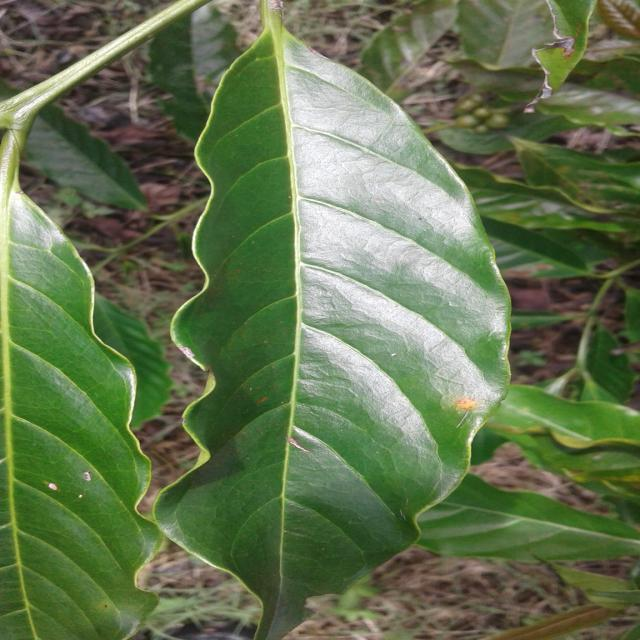Enfermedad-Roya: (152, 16, 511, 640)
